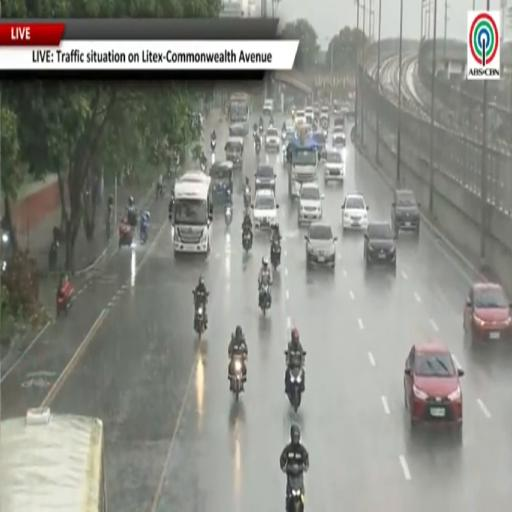bus: (0, 408, 107, 511), (173, 171, 212, 253), (228, 93, 250, 135)
car: (404, 342, 464, 426), (464, 282, 511, 341), (364, 221, 396, 270), (305, 222, 337, 267), (391, 189, 420, 235), (298, 182, 323, 225), (252, 189, 278, 230), (342, 194, 368, 230), (324, 150, 345, 182), (255, 165, 275, 193), (265, 127, 281, 151), (313, 132, 326, 159), (332, 127, 345, 147), (294, 110, 306, 129), (262, 99, 273, 116), (305, 107, 314, 124), (301, 123, 312, 136), (334, 117, 344, 129), (321, 106, 330, 119), (313, 102, 320, 118), (285, 121, 294, 133), (333, 105, 342, 116)
jeepney: (210, 162, 233, 205), (225, 137, 244, 169)
motorcycle: (286, 462, 305, 511), (287, 366, 304, 412), (229, 355, 246, 401), (193, 291, 208, 341), (56, 282, 74, 316), (259, 282, 271, 316), (119, 221, 133, 248), (48, 240, 59, 271), (271, 239, 281, 270), (140, 215, 149, 244), (125, 207, 137, 228), (243, 230, 252, 252), (224, 204, 232, 226), (244, 187, 251, 212), (168, 197, 174, 221), (156, 183, 164, 199), (210, 139, 216, 152), (200, 161, 206, 173), (255, 143, 260, 156), (211, 153, 215, 166), (259, 124, 263, 135), (282, 130, 286, 141), (323, 128, 327, 138), (253, 130, 257, 139)
truck: (286, 133, 318, 197)
